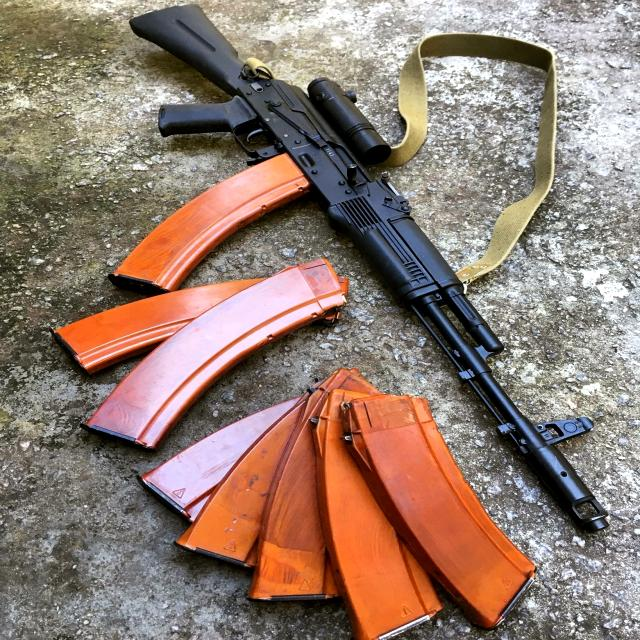ak: (96, 0, 622, 558)
